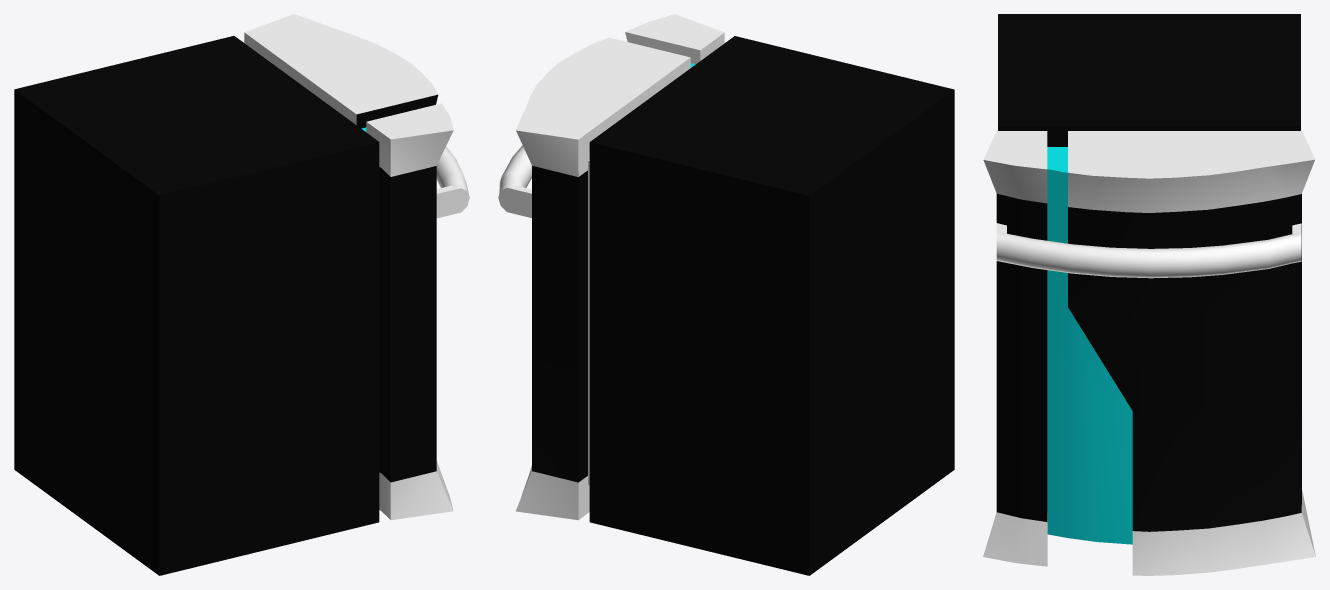
The model's file is low poly fridge.fbx.
3 views of the same model, side by side, from view 1: azimuth 30°, elevation 25°; view 2: azimuth 150°, elevation 25°; view 3: azimuth 270°, elevation 25° (orthographic). The views are drawn at different scales.
Visible parts, largest first — view 1: Box006; view 2: Box006; view 3: Box006.
Boxes of the visible parts, <box> form: Box006: <box>14,14,469,575</box>; Box006: <box>498,14,954,575</box>; Box006: <box>983,14,1315,575</box>.
Bounding box in the file's own units: 58.77 × 62.27 × 47.29.
